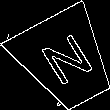N_SE: (33, 29, 98, 92)
